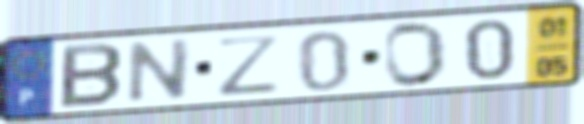0: (293, 28, 354, 93), (460, 17, 520, 82)
B: (56, 41, 125, 111)
N: (123, 36, 195, 106)
O: (381, 20, 450, 90)
Z: (214, 32, 285, 98)
